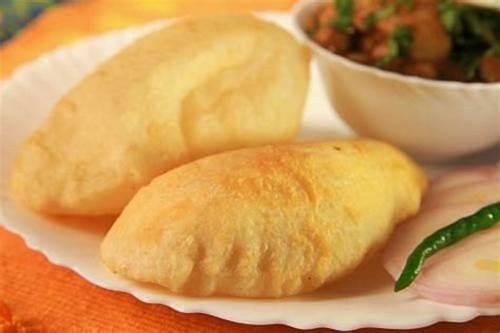Bhatura: (9, 13, 311, 215), (100, 137, 430, 300)
